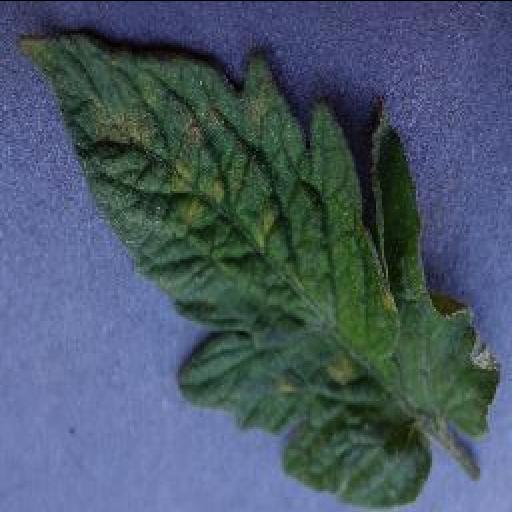disease_tomato: (13, 32, 503, 506)
